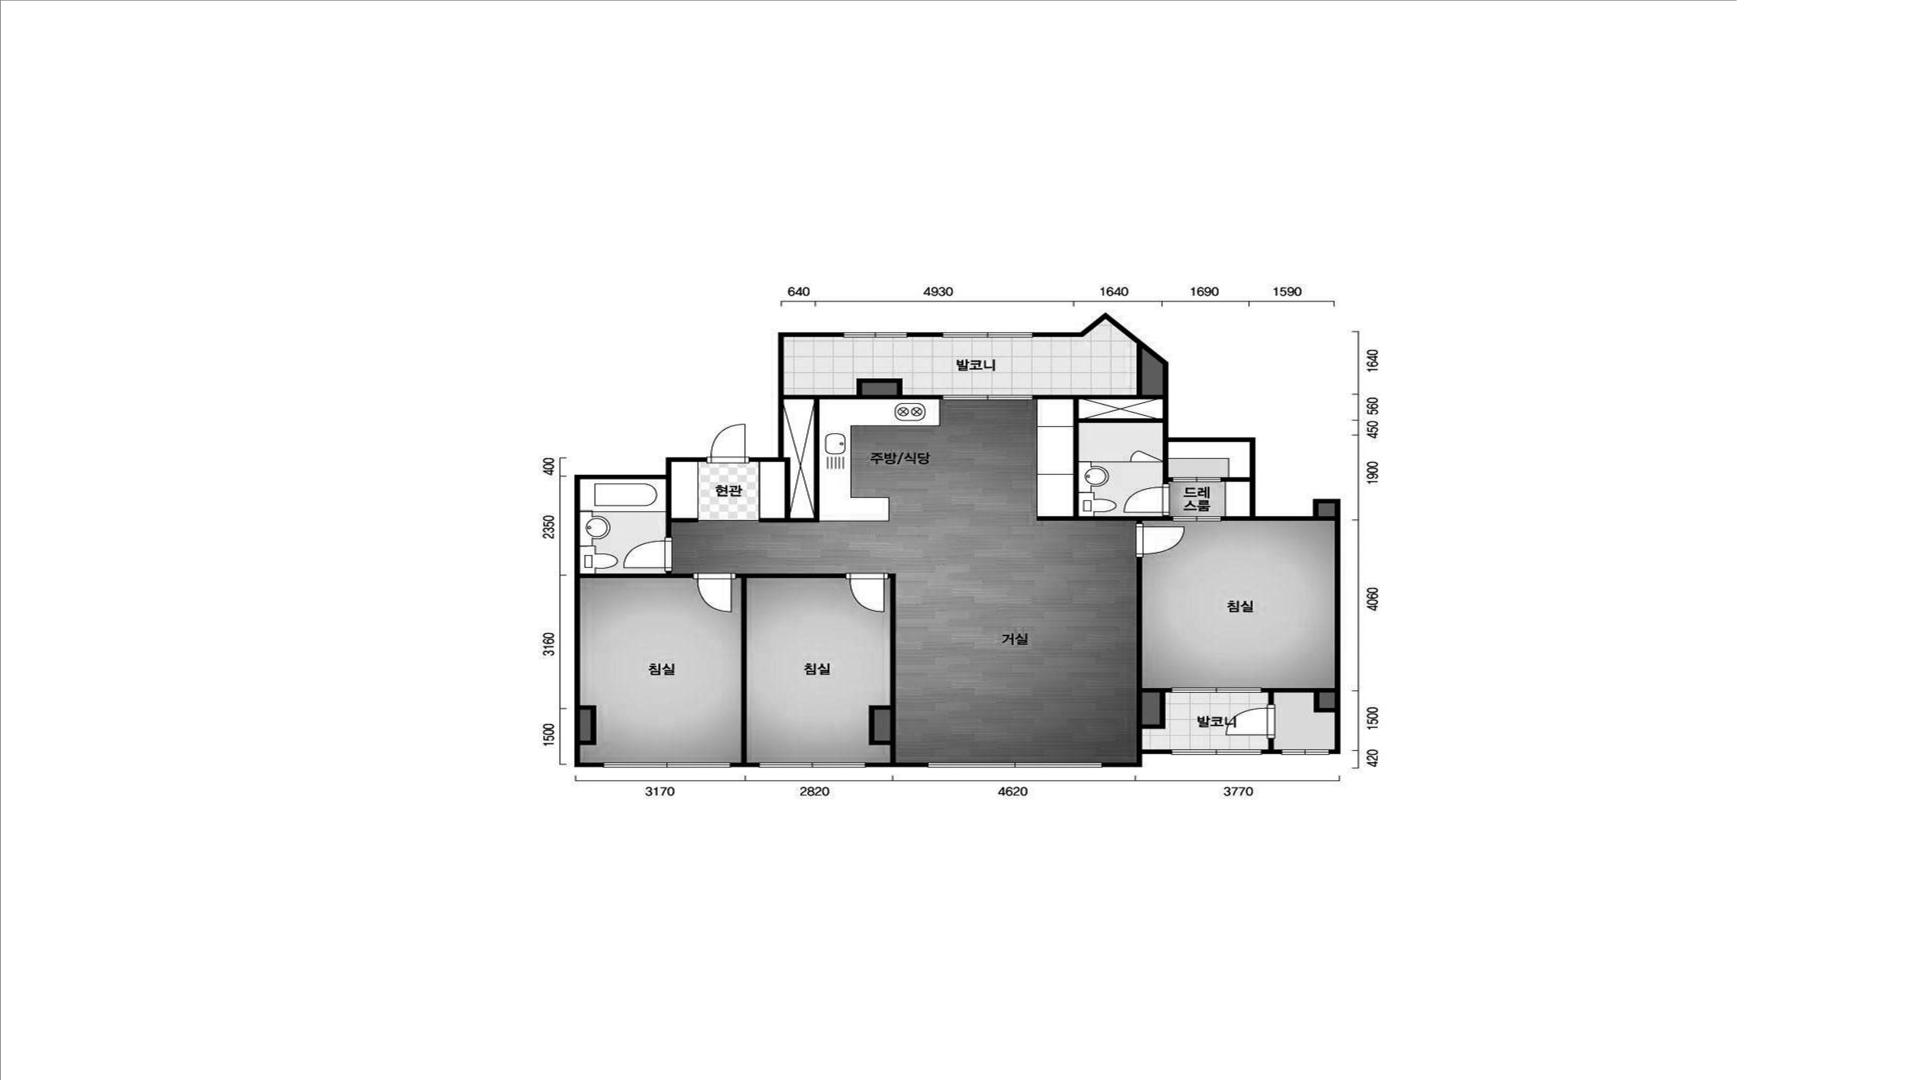background: (3, 1, 1920, 1080)
door: (845, 572, 889, 613), (692, 572, 736, 613), (705, 423, 749, 463), (1225, 704, 1275, 738), (1135, 524, 1185, 558), (622, 537, 673, 571), (1124, 483, 1171, 517)
wall: (1034, 313, 1341, 754), (574, 458, 705, 767), (749, 332, 843, 462), (760, 400, 820, 522), (785, 378, 942, 400), (1137, 687, 1171, 749), (737, 574, 748, 762), (666, 480, 699, 537), (869, 705, 897, 762), (1102, 749, 1171, 767), (1036, 516, 1172, 524), (1262, 687, 1313, 704), (1137, 558, 1143, 687), (890, 574, 895, 705), (580, 704, 596, 745), (1073, 400, 1079, 516), (580, 572, 692, 578), (746, 574, 845, 579), (1079, 418, 1162, 423), (1034, 396, 1137, 400), (1163, 443, 1172, 483), (785, 458, 790, 518), (866, 762, 927, 767), (1262, 740, 1280, 754), (907, 332, 943, 338), (1221, 477, 1250, 483), (1222, 516, 1250, 521), (731, 762, 758, 766)
window: (927, 762, 1102, 767), (603, 762, 731, 767), (1171, 749, 1261, 756), (943, 394, 1033, 401), (758, 762, 865, 767), (1171, 687, 1262, 692), (943, 332, 1034, 338), (843, 332, 907, 338), (1172, 516, 1221, 522), (1172, 477, 1221, 483), (1280, 749, 1329, 754)
